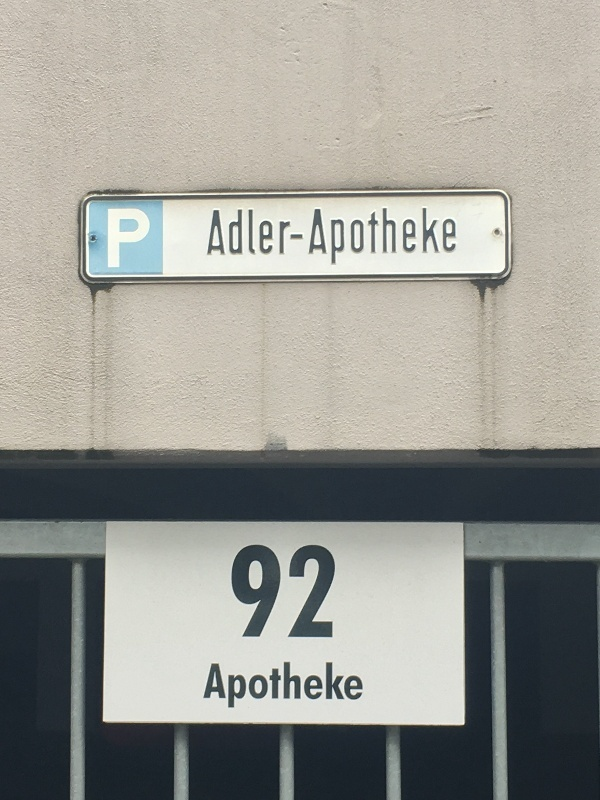text: (241, 543, 256, 638), (257, 543, 272, 638), (273, 543, 288, 638), (289, 543, 304, 638), (305, 543, 320, 638), (321, 543, 336, 638), (113, 209, 128, 269), (129, 209, 144, 269), (225, 208, 240, 267), (241, 208, 256, 267), (257, 208, 272, 267), (273, 208, 288, 267), (289, 208, 304, 267), (305, 208, 320, 267), (321, 208, 336, 267), (337, 208, 352, 267), (353, 208, 368, 267), (369, 208, 384, 267), (385, 208, 400, 267), (401, 208, 416, 267), (417, 208, 432, 267), (433, 208, 448, 267), (231, 543, 240, 638), (225, 664, 240, 711), (241, 664, 256, 711), (257, 664, 272, 711), (273, 664, 288, 711), (289, 664, 304, 711), (305, 664, 320, 711), (321, 664, 336, 711), (337, 664, 352, 711), (213, 208, 224, 267), (212, 664, 224, 711), (449, 208, 457, 267), (353, 664, 363, 711), (145, 209, 151, 269), (108, 209, 112, 269)
